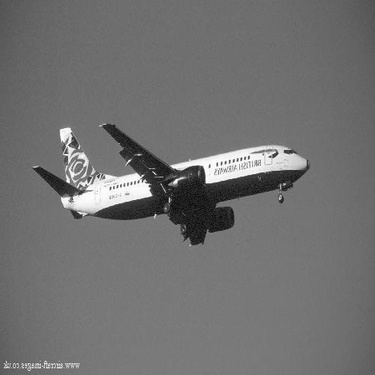airplane: (32, 101, 308, 250)
